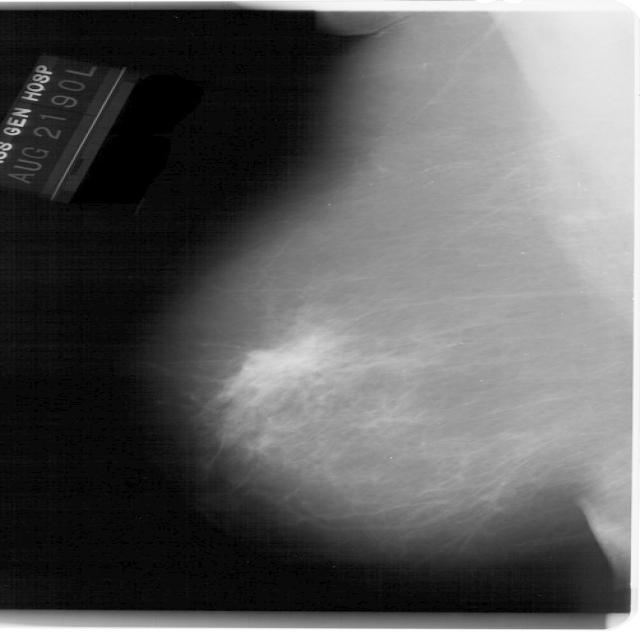tumour: (222, 340, 335, 394)
